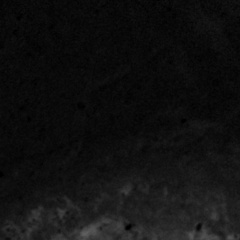Vegetation: (84, 218, 120, 240), (192, 231, 239, 240)
